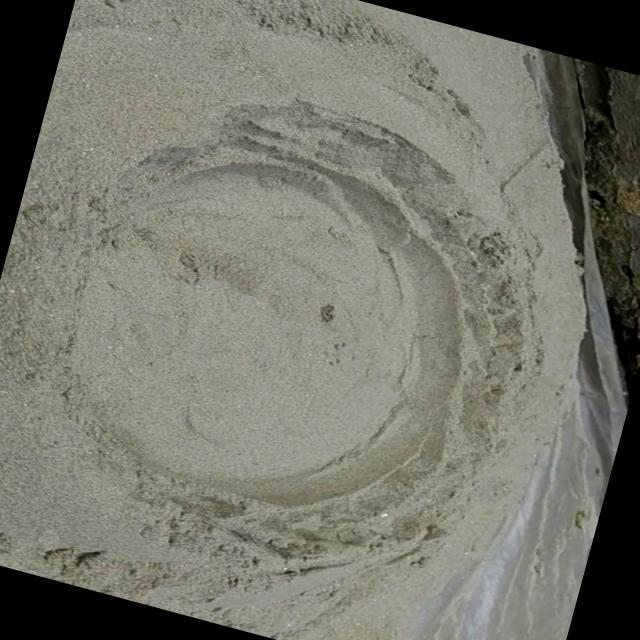C40: (65, 141, 469, 506)
